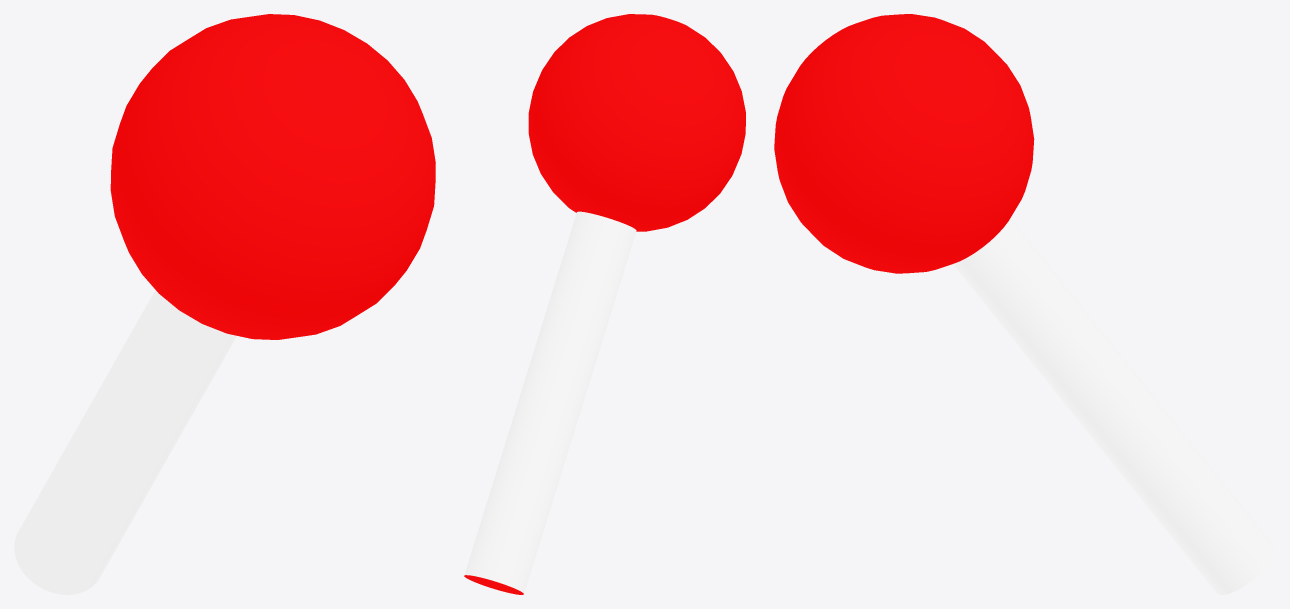
The model's file is claw-joystick.glb.
3 renders of one model, left to right at view 1: azimuth 30°, elevation 25°; view 2: azimuth 150°, elevation 25°; view 3: azimuth 270°, elevation 25°, orthographic. The views are drawn at different scales.
Visible parts, largest first — view 1: SM_Joystick; view 2: SM_Joystick; view 3: SM_Joystick.
Boxes of the visible parts, x1=… form: SM_Joystick: x1=14, y1=14, x2=435, y2=594; SM_Joystick: x1=464, y1=14, x2=745, y2=594; SM_Joystick: x1=774, y1=14, x2=1275, y2=594.
Bounding box in the file's own units: 0.4557 × 1.09 × 0.8784.
